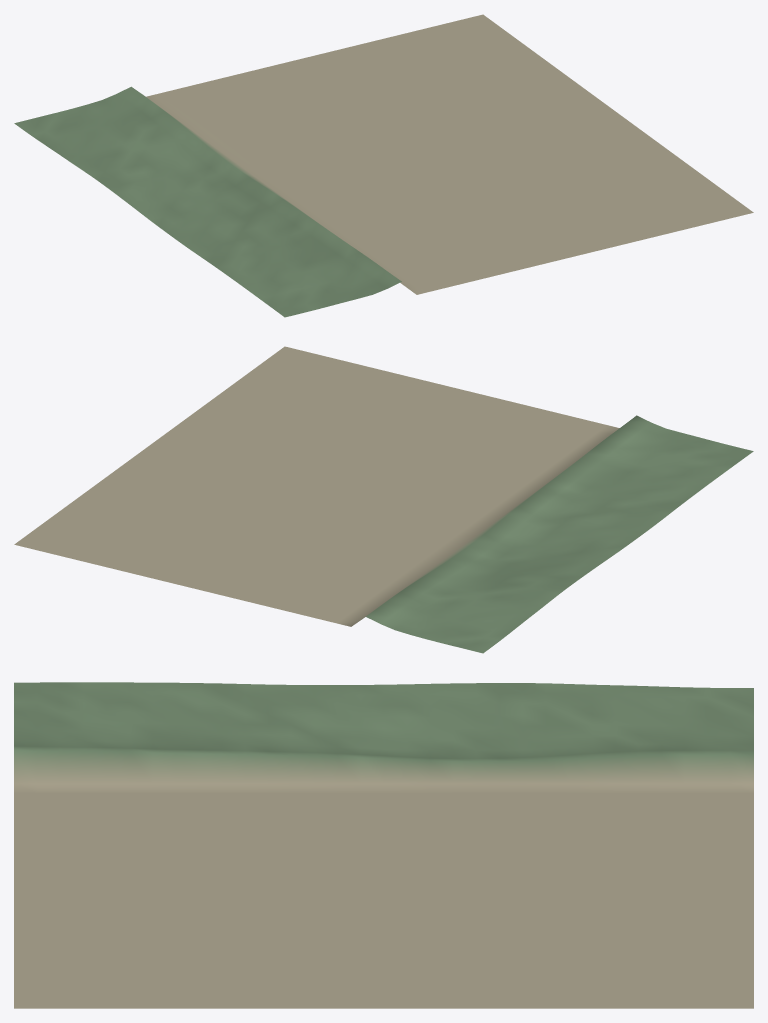
3 renders of one model, top to bottom at view 1: azimuth 30°, elevation 25°; view 2: azimuth 150°, elevation 25°; view 3: azimuth 270°, elevation 25°, orthographic. The views are drawn at different scales.
Visible parts, largest first — view 1: Terrain-col; view 2: Terrain-col; view 3: Terrain-col.
Part boxes in pixels (left/top/right/bottom): Terrain-col: left=14, top=14, right=753, bottom=317; Terrain-col: left=14, top=346, right=753, bottom=653; Terrain-col: left=14, top=682, right=753, bottom=1008.
Size of the model in its own units: 256 by 8.81 by 256.
